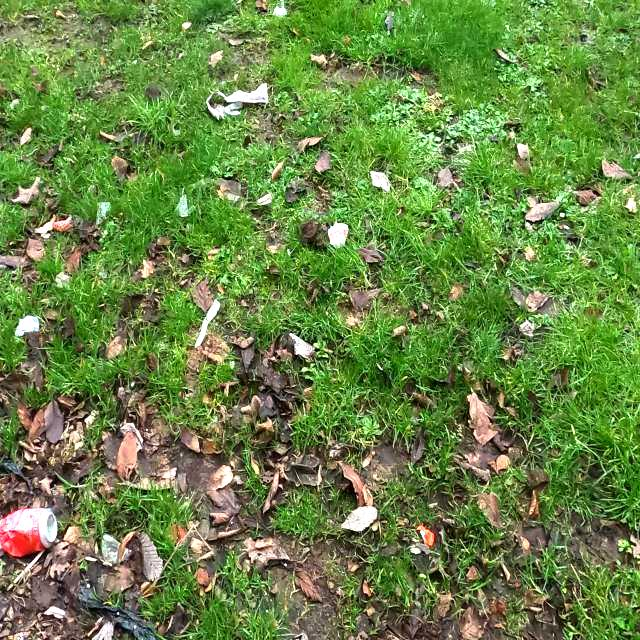Metal: (0, 496, 56, 562)
Plastic: (206, 81, 268, 121), (415, 524, 435, 546)
